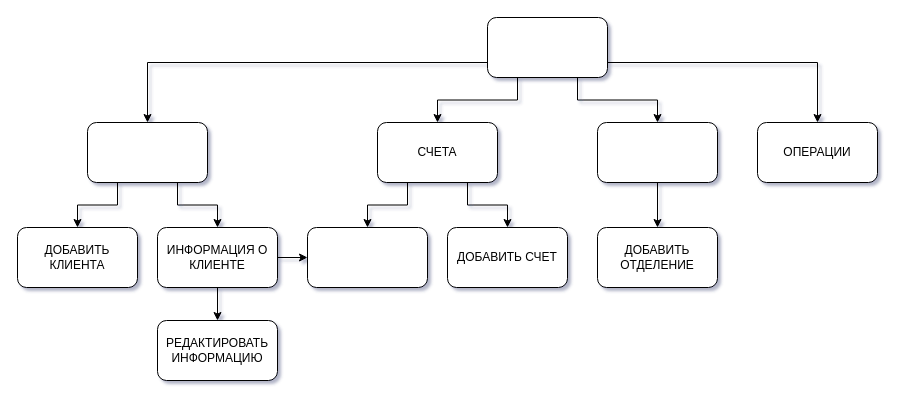
This 901x404 diagram has some shape labels left out. The box of each missing label's shape, as (x1, y1, x2, y2) in pixels:
ГЛАВНАЯ СТРАНИЦА: (486, 16, 608, 78)
ИНФОРМАЦИЯ О СЧЕТЕ: (306, 226, 428, 288)
КЛИЕНТЫ: (86, 122, 208, 182)
ОТДЕЛЕНИЯ: (596, 122, 718, 182)
